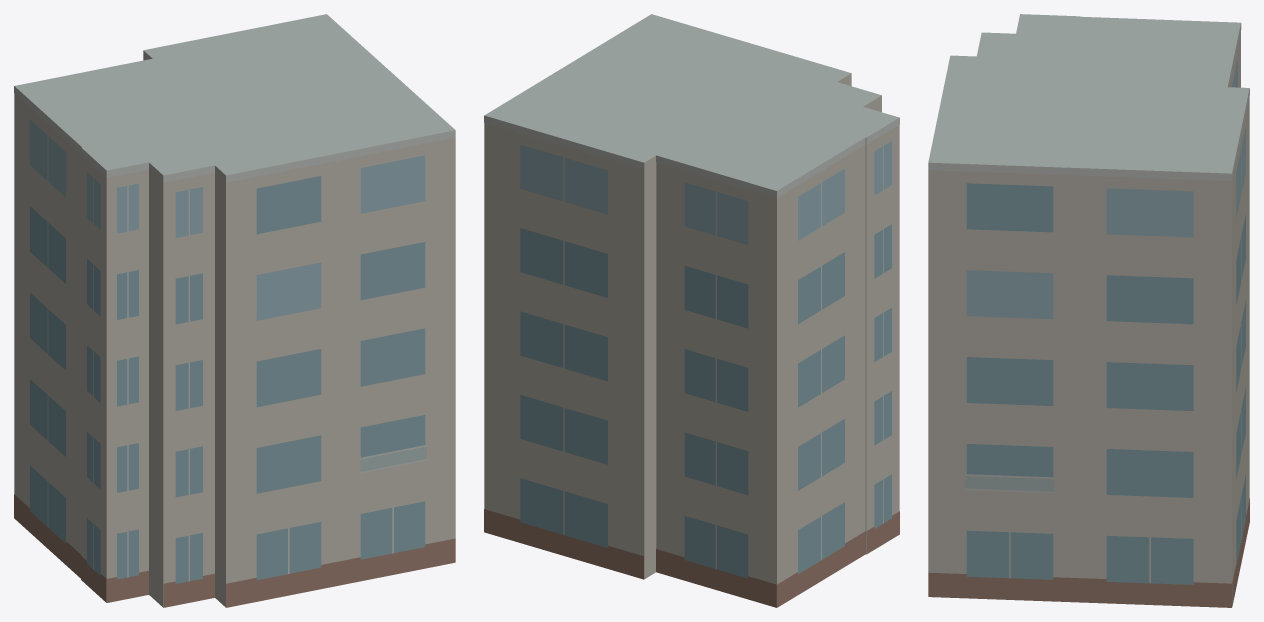
Rendered from survey-upis-32827243.glb.
3 renders of one model, left to right at view 1: azimuth 30°, elevation 25°; view 2: azimuth 150°, elevation 25°; view 3: azimuth 270°, elevation 25°, orthographic. The views are drawn at different scales.
Parts seen in each view (by area): view 1: survey-upis-32827243.tmp; view 2: survey-upis-32827243.tmp; view 3: survey-upis-32827243.tmp.
Boxes of the visible parts, x1,y1,x2,y2 form: survey-upis-32827243.tmp: (14, 14, 455, 607); survey-upis-32827243.tmp: (484, 14, 899, 607); survey-upis-32827243.tmp: (928, 14, 1249, 607).
Bounding box in the file's own units: 11.36 × 14.4 × 9.67.
